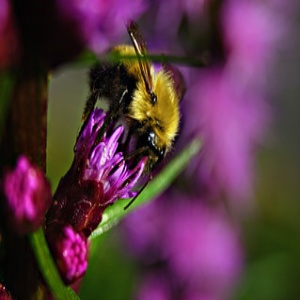bee: (84, 41, 182, 169)
